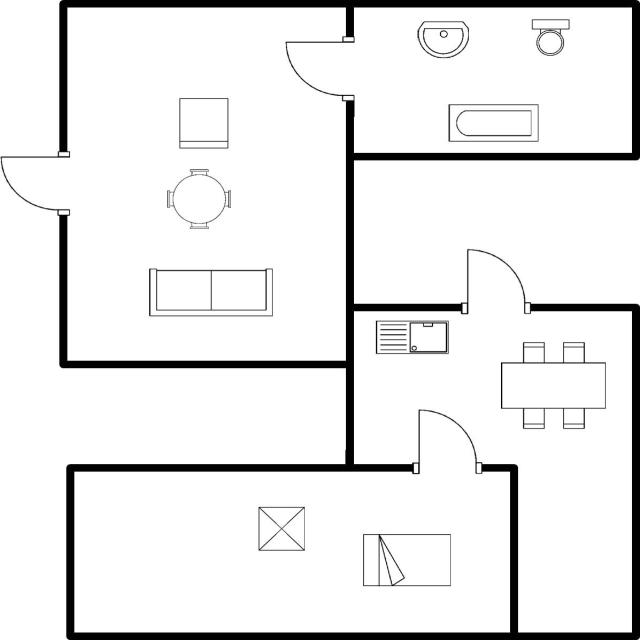bed: (357, 530, 456, 592)
coffee_table: (253, 501, 309, 553)
dining_table: (493, 334, 615, 433)
large_sink: (526, 13, 575, 58)
large_sofa: (144, 264, 278, 319)
round_table: (162, 166, 234, 235)
sink: (368, 316, 454, 359)
small_sink: (411, 17, 472, 62)
small_sofa: (174, 94, 233, 152)
tub: (442, 99, 544, 146)
